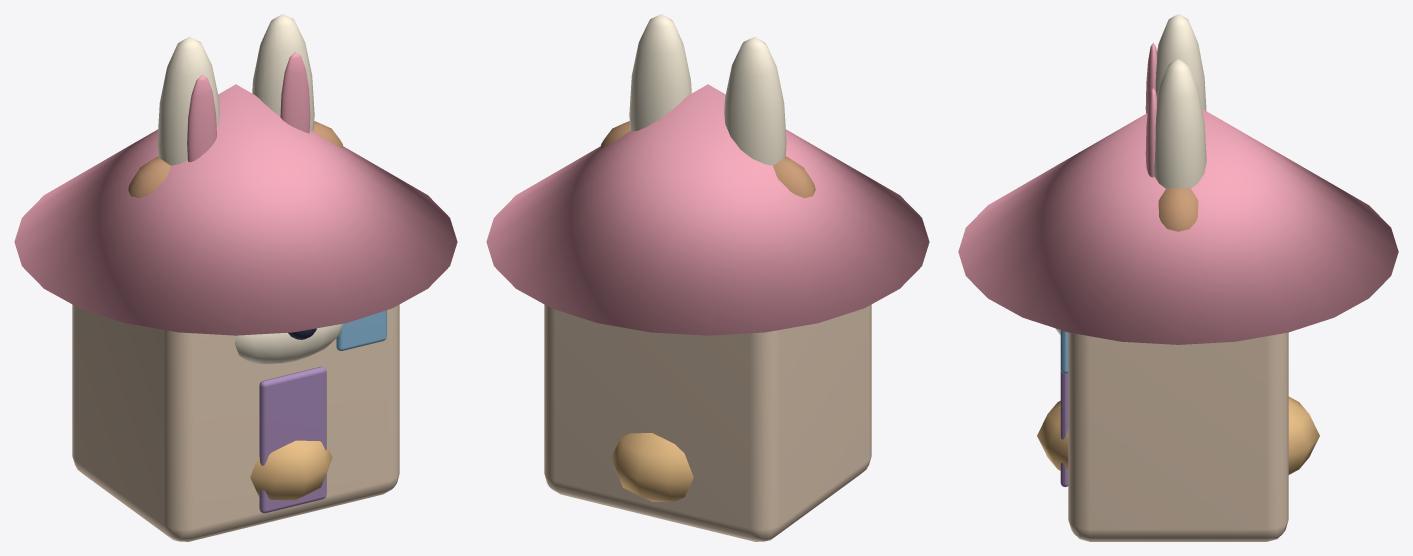
The model's file is toybox.glb.
The picture shows the model from 3 angles, left to right: view 1: azimuth 30°, elevation 25°; view 2: azimuth 150°, elevation 25°; view 3: azimuth 270°, elevation 25°; orthographic projection.
Visible parts, largest first — view 1: house, rabbit, bear, bread; view 2: house, rabbit, bread, bear; view 3: house, rabbit, bread, bear.
Boxes of the visible parts, x1,y1,x2,y2 form: house: (14,84,457,541); rabbit: (157,14,314,165); bear: (128,121,343,364); bread: (250,440,332,500); house: (486,84,929,541); rabbit: (629,14,786,165); bread: (611,433,693,501); bear: (600,121,815,198); house: (958,109,1398,541); rabbit: (1145,14,1206,188); bread: (1037,396,1319,474); bear: (1055,188,1198,335).
Size of the model in its own units: 1.4 by 1.74 by 1.4.
